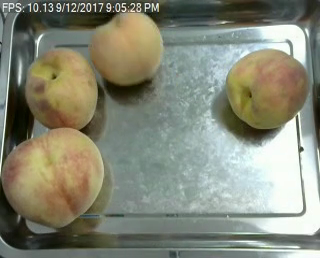Peach: (0, 127, 103, 226), (224, 48, 310, 130), (22, 45, 98, 130), (87, 10, 164, 84)
